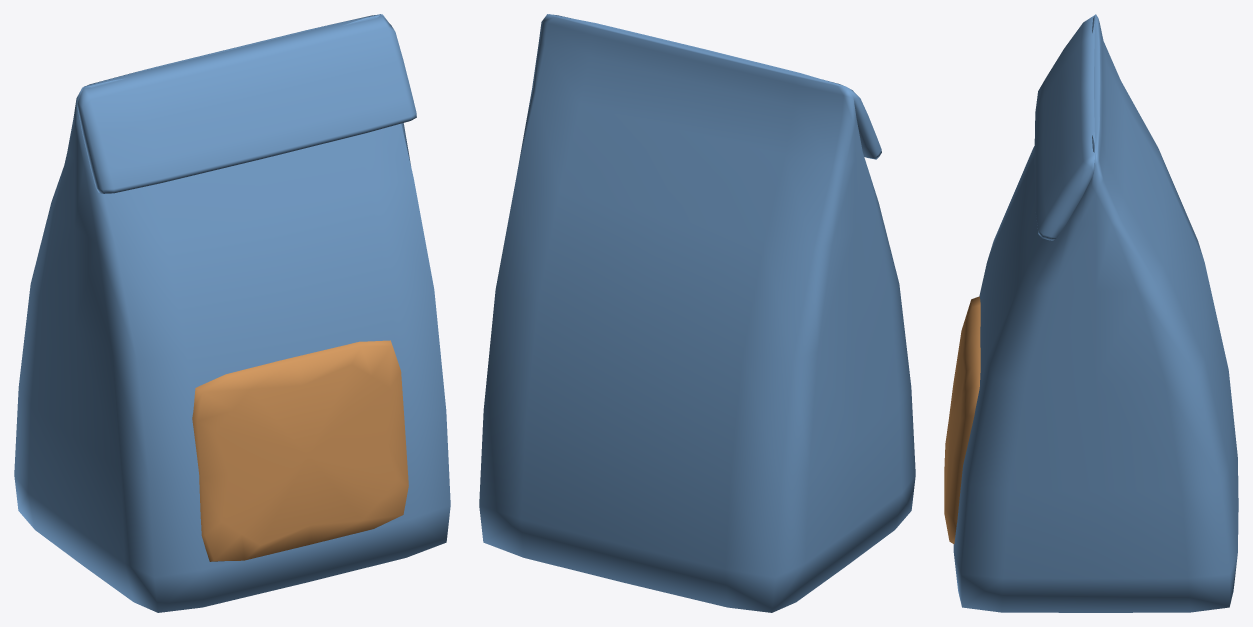
The model's file is SM_coffee_pack_blue.fbx.
The picture shows the model from 3 angles, left to right: view 1: azimuth 30°, elevation 25°; view 2: azimuth 150°, elevation 25°; view 3: azimuth 270°, elevation 25°; orthographic projection. The views are drawn at different scales.
Parts seen in each view (by area): view 1: SM_coffee_pack_blue; view 2: SM_coffee_pack_blue; view 3: SM_coffee_pack_blue.
Boxes of the visible parts, left/top/right/bottom form: SM_coffee_pack_blue: left=14, top=14, right=450, bottom=612; SM_coffee_pack_blue: left=479, top=14, right=915, bottom=612; SM_coffee_pack_blue: left=944, top=14, right=1238, bottom=612.
Bounding box in the file's own units: 26.54 × 39.41 × 22.38.
Materials: 1 (1 with a texture image).
